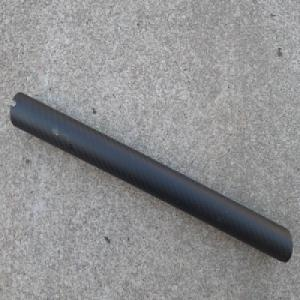LuggagePart: (8, 90, 293, 263)
